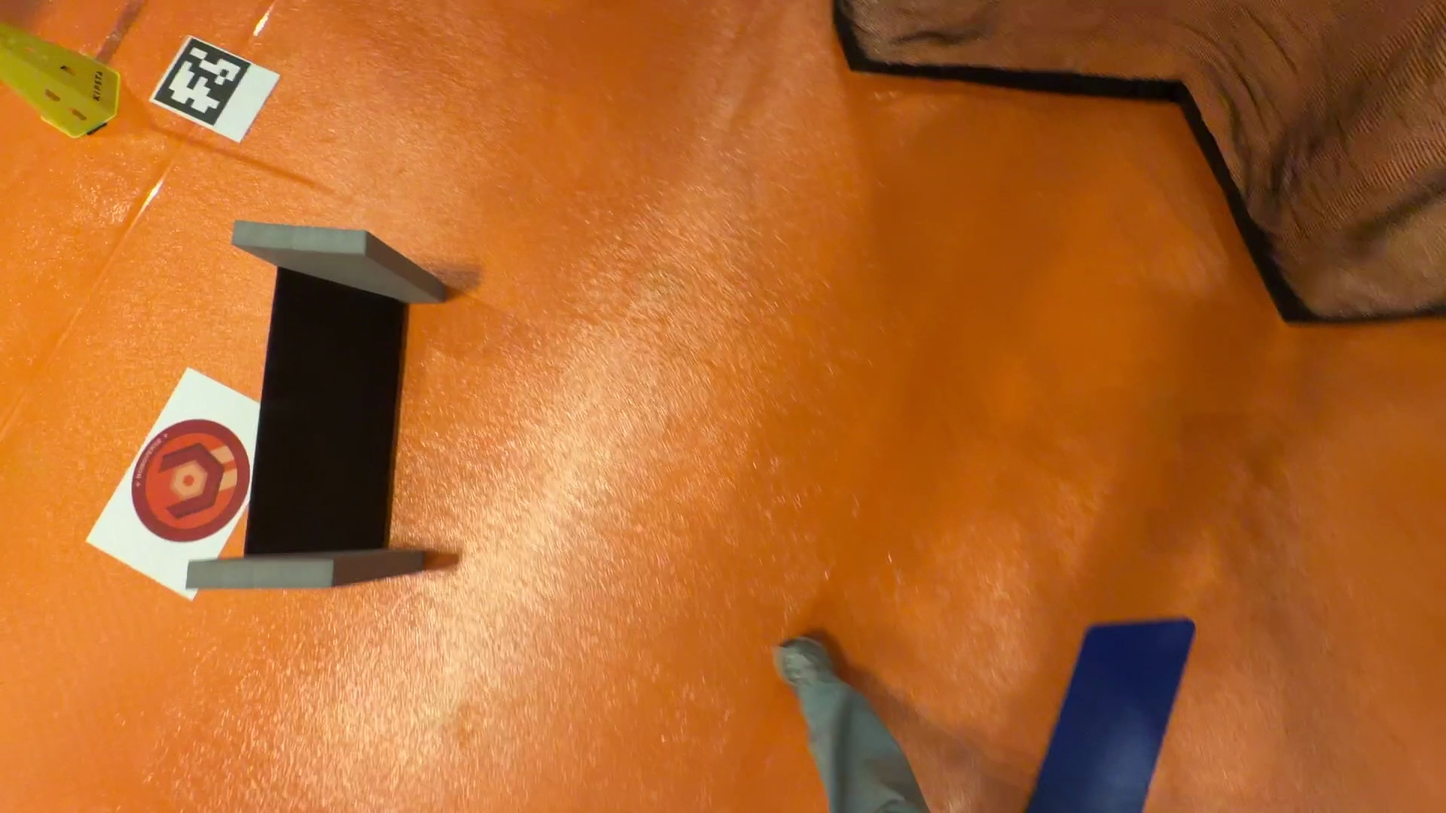landing_pad: (127, 420, 253, 540)
